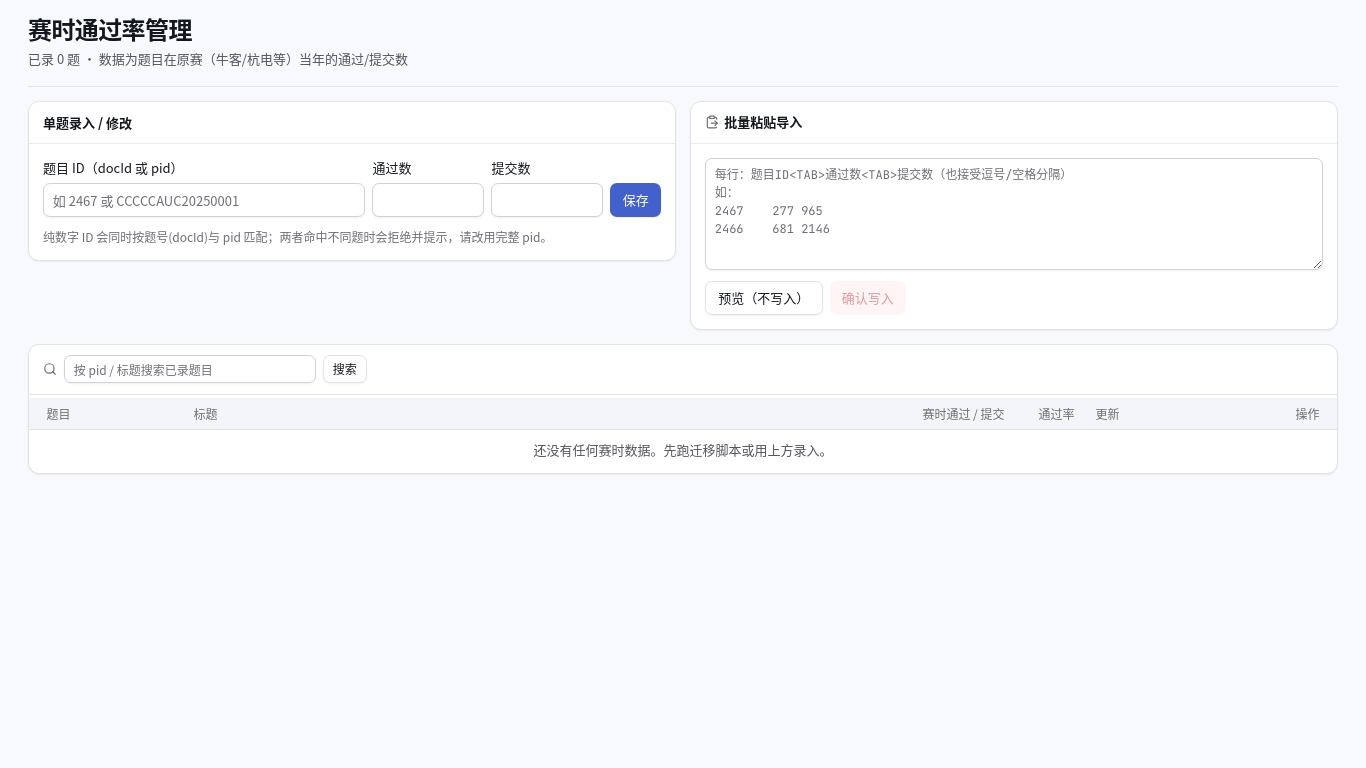
Test case: real-pass management page › previews a batch through the JSON endpoint without performing a write
In the text box with placeholder "每行：题目ID": (1014, 214) [705,158,1323,270], type "CAUC0042 25 100"
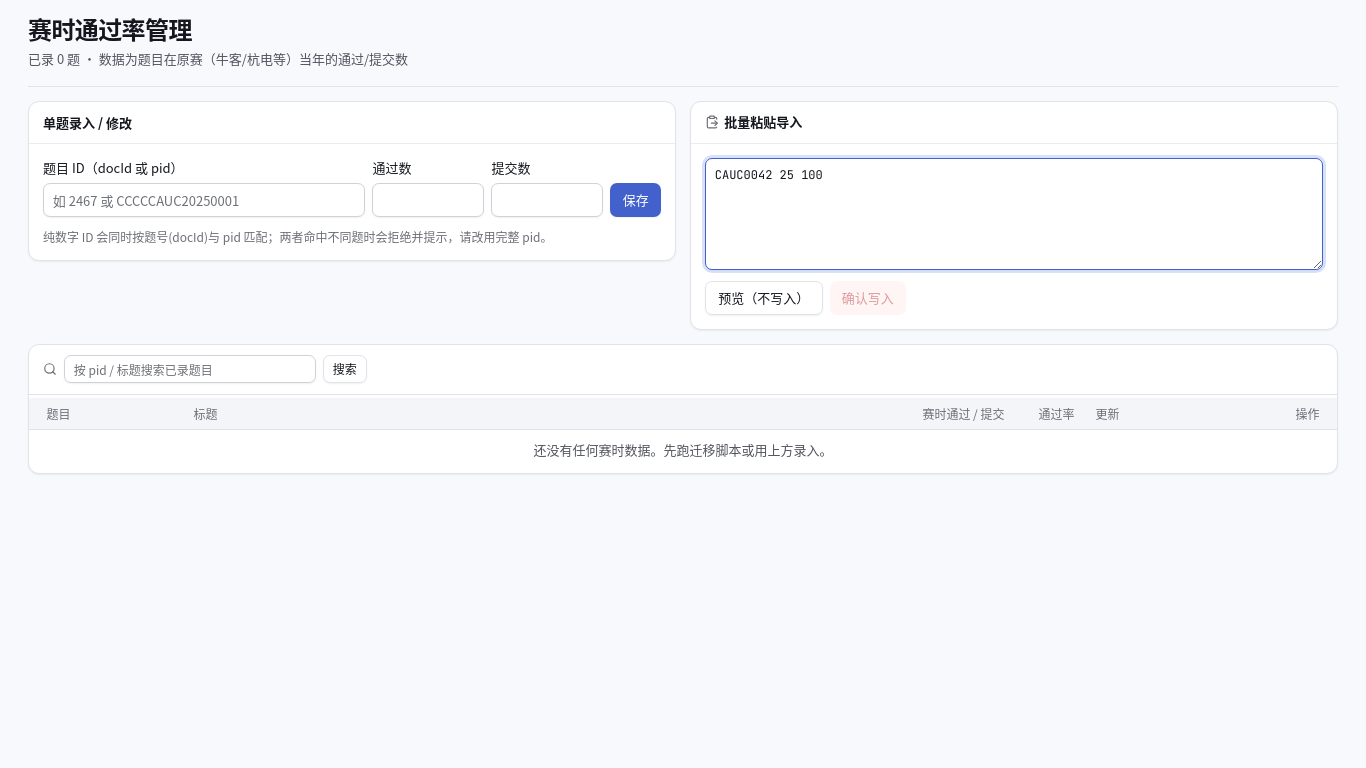
Click the button "预览（不写入）": (764, 298) [705,281,822,315]
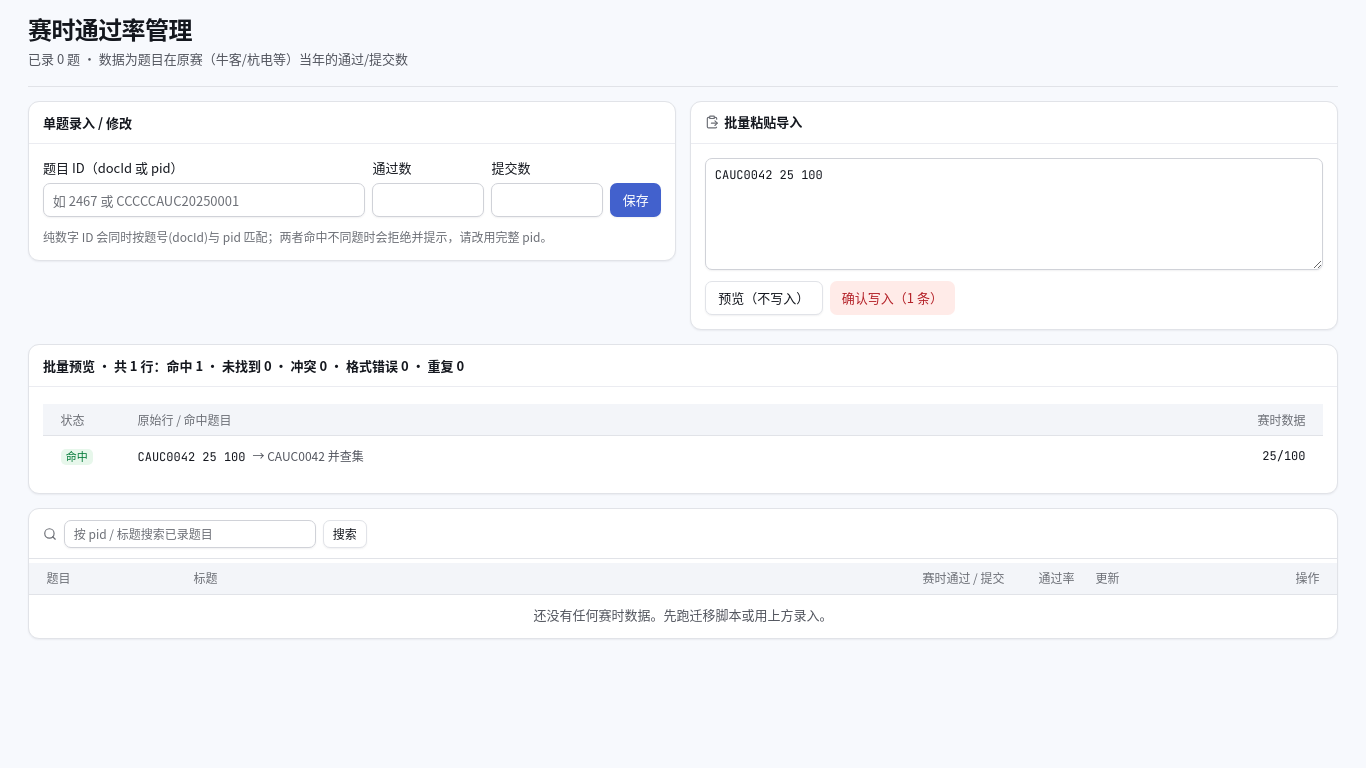
Now the text "批量预览 · 共 1 行：命中 1 · 未找到 0 · 冲突 0 · 格式错误 0 · 重复 0" is shown, box [43,356,464,374]
Now the text "25/100" is shown, box [1211,436,1323,476]
Now the button "确认写入（1 条）" is enabled, box [830,281,955,315]
